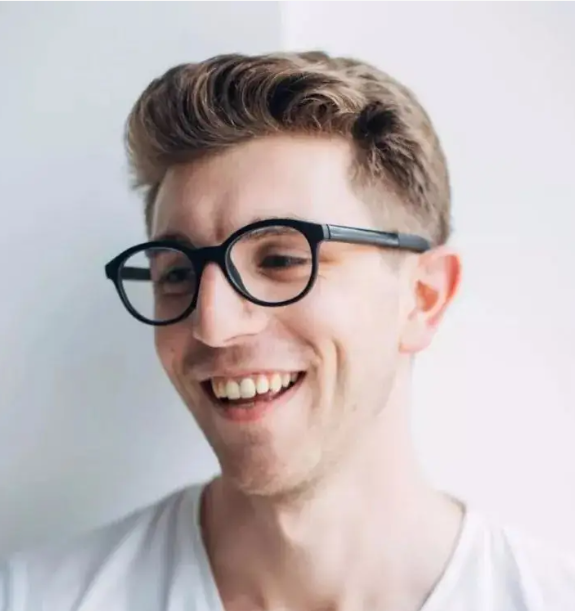glass: (100, 216, 446, 325)
mouth: (164, 356, 332, 423)
